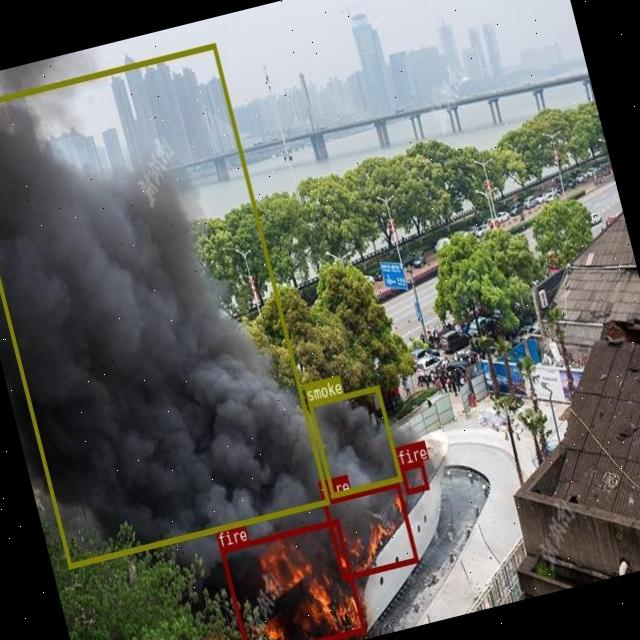fire: (219, 518, 364, 640), (321, 480, 418, 580), (398, 459, 428, 494)
smoke: (0, 41, 328, 567), (307, 383, 402, 498)
